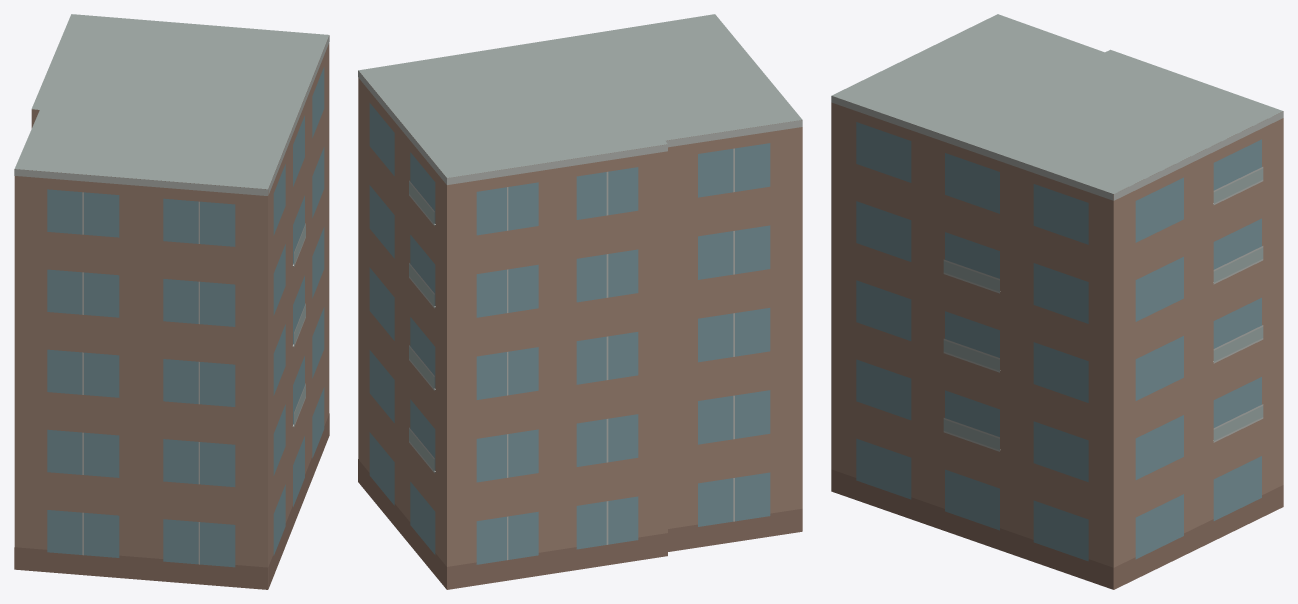
Rendered from survey-upis-32677864.glb.
The picture shows the model from 3 angles, left to right: view 1: azimuth 30°, elevation 25°; view 2: azimuth 150°, elevation 25°; view 3: azimuth 270°, elevation 25°; orthographic projection. The views are drawn at different scales.
Parts seen in each view (by area): view 1: survey-upis-32677864.tmp; view 2: survey-upis-32677864.tmp; view 3: survey-upis-32677864.tmp.
Part boxes in pixels (<box>): survey-upis-32677864.tmp: <box>14,14,329,589</box>; survey-upis-32677864.tmp: <box>358,14,802,589</box>; survey-upis-32677864.tmp: <box>831,14,1283,589</box>.
Bounding box in the file's own units: 13.92 × 14.25 × 14.76.
